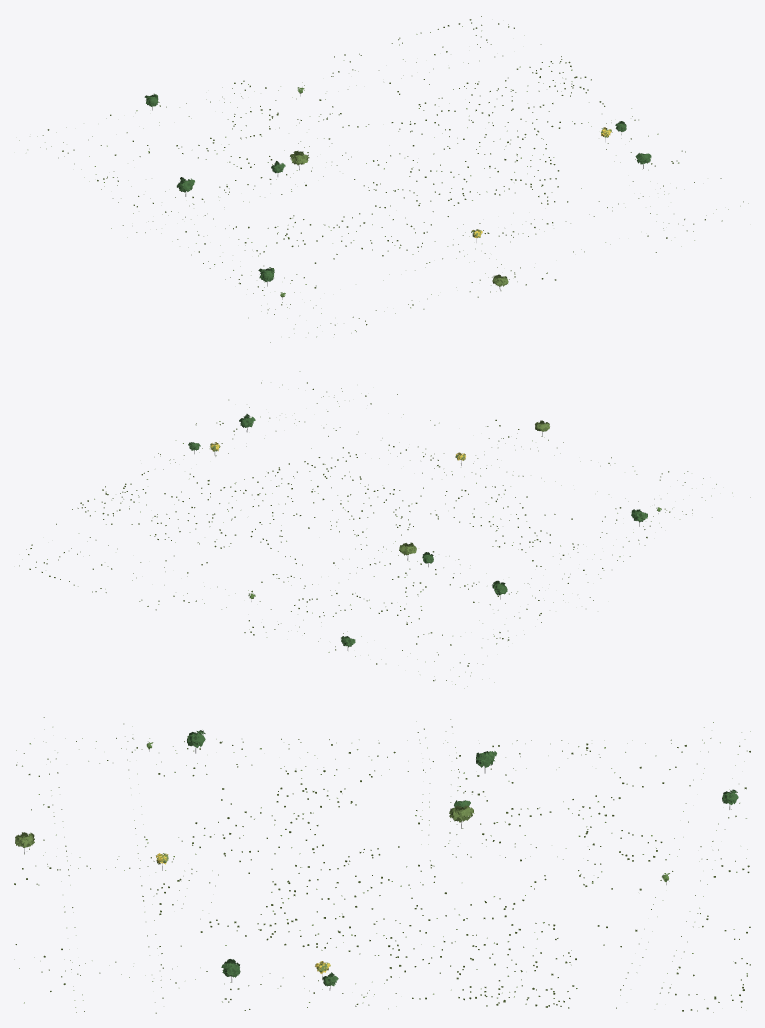
The model's file is Vegetation.fbx.
The picture shows the model from 3 angles, top to bottom: view 1: azimuth 30°, elevation 25°; view 2: azimuth 150°, elevation 25°; view 3: azimuth 270°, elevation 25°; orthographic projection. The views are drawn at different scales.
Parts seen in each view (by area): view 1: EXPORT_OT_Vegetation_SA_M01_01_S01_02; view 2: EXPORT_OT_Vegetation_SA_M01_01_S01_02; view 3: EXPORT_OT_Vegetation_SA_M01_01_S01_02.
Part boxes in pixels (box(x1,y1,x2,y2)): EXPORT_OT_Vegetation_SA_M01_01_S01_02: box(19, 16, 748, 342); EXPORT_OT_Vegetation_SA_M01_01_S01_02: box(19, 371, 750, 688); EXPORT_OT_Vegetation_SA_M01_01_S01_02: box(14, 717, 750, 1013).
Size of the model in its own units: 250 by 14.87 by 249.
